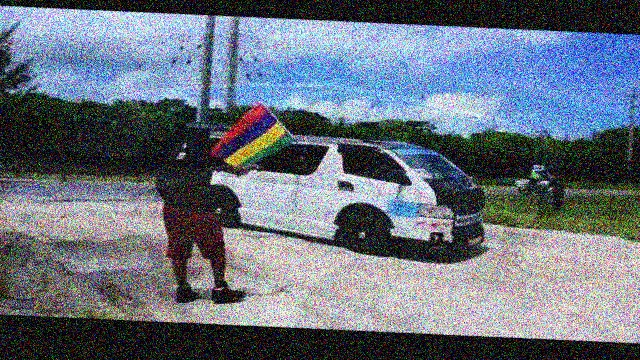van: (169, 122, 500, 264)
